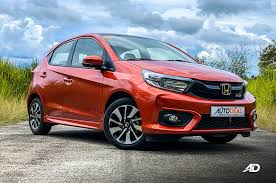Honda: (27, 32, 258, 151)
